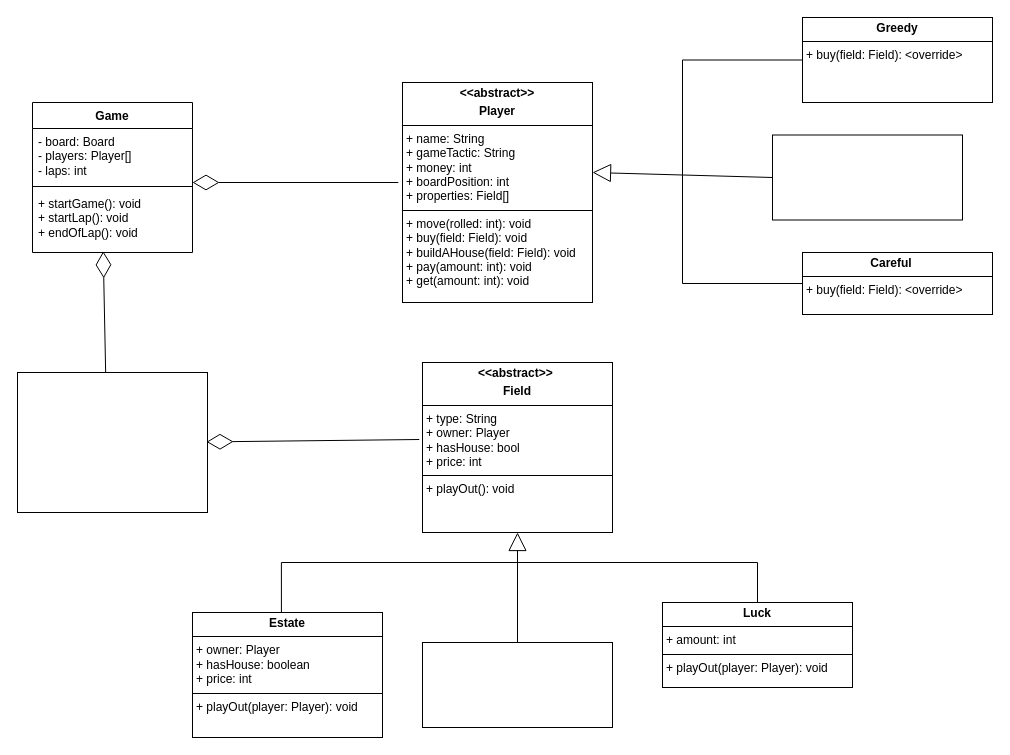
The diagram is 1010 pixels wide and 755 high, and some of its shapes have lost their labels. The centre of each missing label's shape, as x and y in pixels:
Board - fields: Field[] - numberOfFields: int + getFieldType(index: int): Field: the point at 112,442
Service + amount: int + playOut(player: Player): void: the point at 517,685
Tactical + buy(field: Field ): <override>: the point at 867,177
